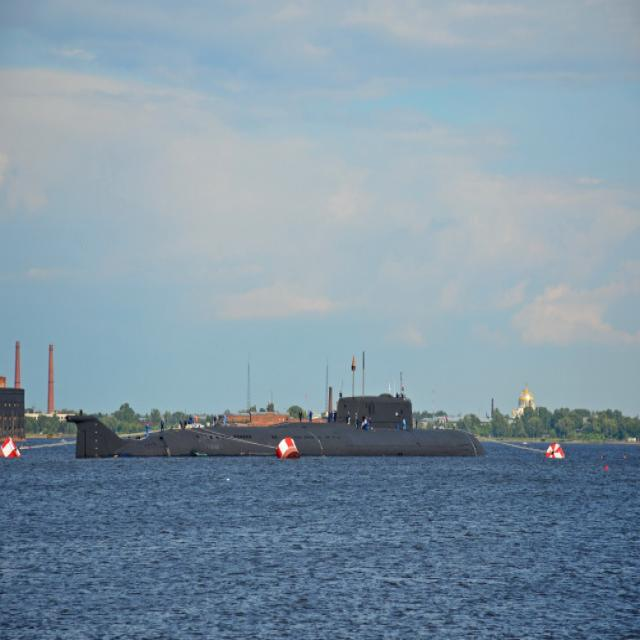submarine: (73, 368, 518, 459)
